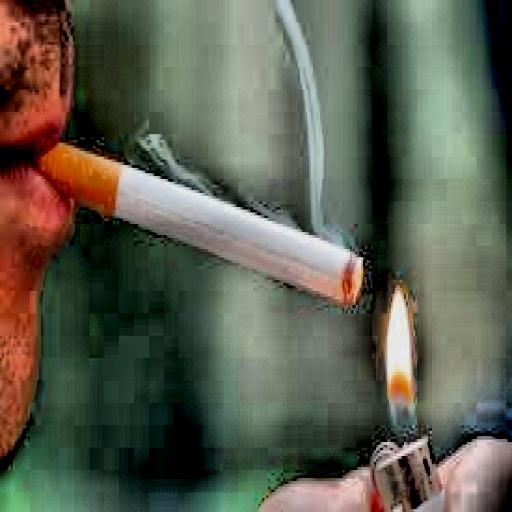fire: (372, 283, 434, 428)
